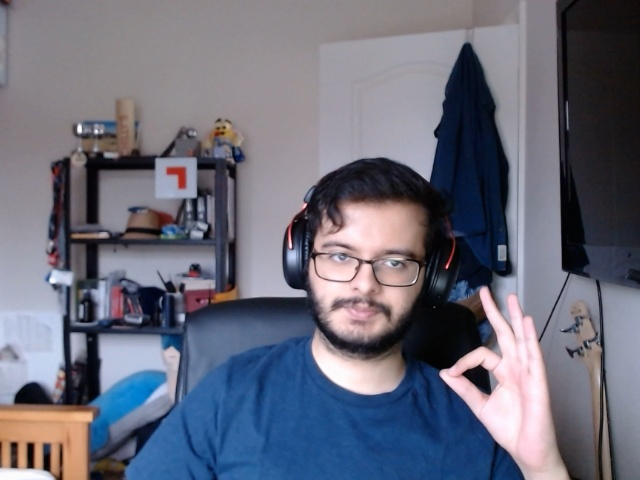Okay: (437, 281, 571, 473)
